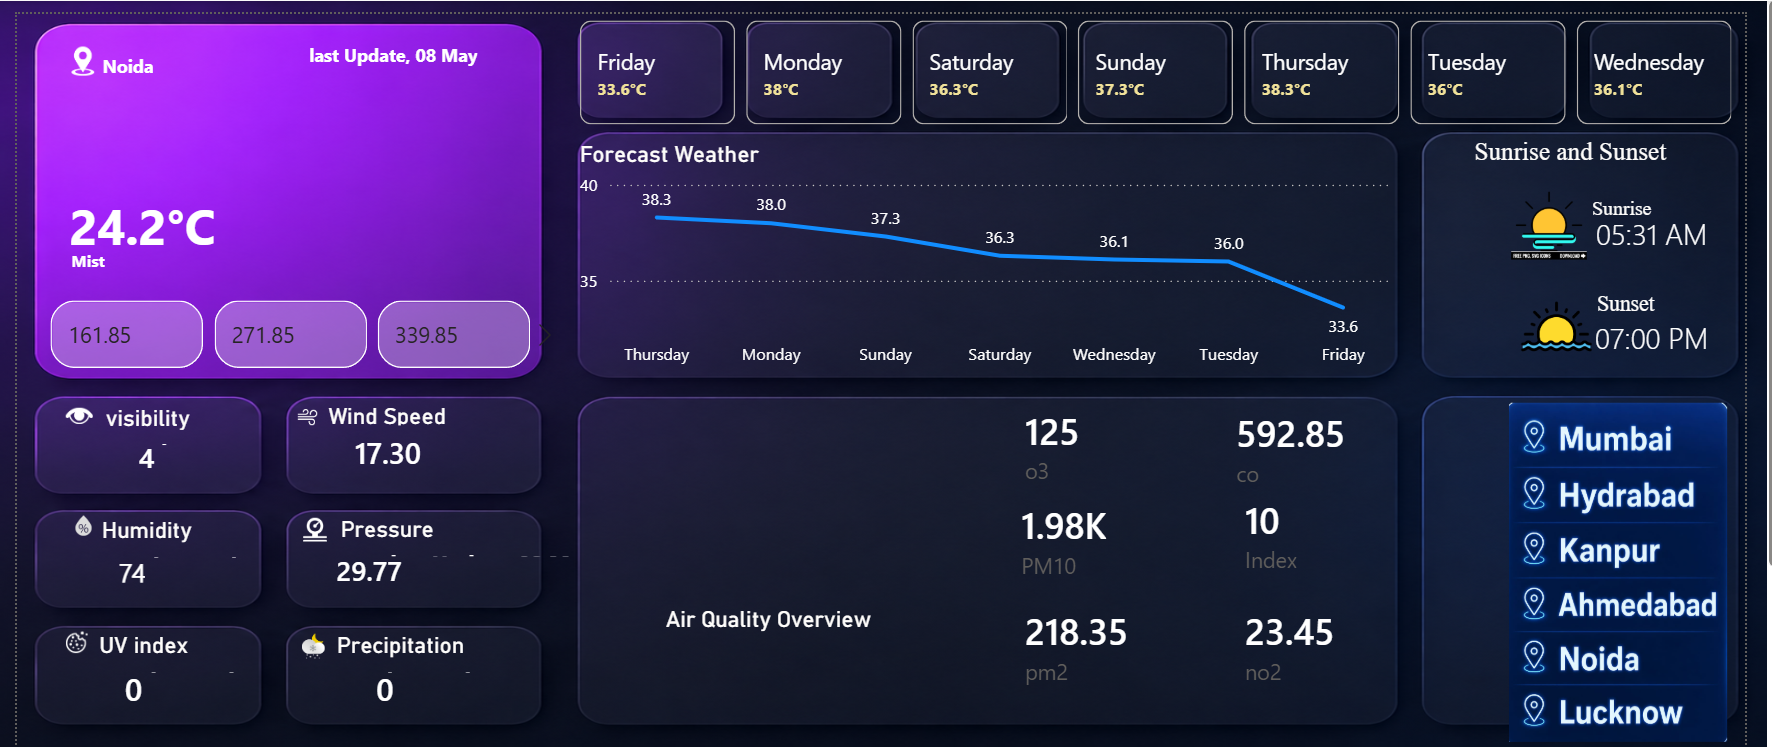

This screenshot's page, from the dashboard's own definition file:
{"tool":"powerbi","page":{"name":"Page 1","canvas":[1280,720],"ordinal":0},"visuals":[{"type":"advancedSlicerVisual","fields":{"Values":["Current.current.air_quality.co"]},"box":[0,207.4,406.5,60.2],"z":0},{"type":"shape","box":[31.5,106.5,243.5,99.1],"z":1000},{"type":"shape","box":[37.9,166.3,187.4,31.6],"z":2000},{"type":"shape","box":[61.1,23.2,103.2,30.5],"z":3000},{"type":"shape","title":"visibility","box":[65.7,288.9,65.7,30.6],"z":4000},{"type":"shape","box":[184.3,14.8,159.3,30.6],"z":5000},{"type":"shape","title":"Wind Speed","box":[230.6,288,90.7,16.7],"z":6000},{"type":"shape","title":"Humidity","box":[63,372.2,188,30.6],"z":7000},{"type":"shape","title":"Pressure","box":[239.8,371.3,187,30.6],"z":8000},{"type":"shape","title":"UV index","box":[61.1,457.4,188,30.6],"z":9000},{"type":"shape","title":"Precipitation","box":[237,457.4,187,30.6],"z":10000},{"type":"image","box":[36.1,291.7,20.4,12],"z":11000},{"type":"image","box":[200,292.6,30.6,12],"z":12000},{"type":"image","box":[41.7,371.3,14.8,14.8],"z":13000},{"type":"image","box":[211.1,373.1,19.4,17.6],"z":14000},{"type":"image","box":[31.5,457.4,25,15.7],"z":15000},{"type":"image","box":[211.1,457.4,16.7,21.3],"z":16000},{"type":"image","box":[38,24.1,22.2,21.3],"z":17000},{"type":"cardVisual","fields":{"Data":["Sum(Current.current.humidity)"]},"box":[38,376.9,95.4,70.4],"z":18000},{"type":"cardVisual","fields":{"Data":["Sum(Current.current.vis_km)"]},"box":[61.1,297.2,117.6,60.2],"z":19000},{"type":"cardVisual","fields":{"Data":["Sum(Current.current.wind_kph)"]},"box":[221.3,289.8,149.1,67.6],"z":20000},{"type":"cardVisual","fields":{"Data":["Sum(Current.current.pressure_in)"]},"box":[207.4,373.1,151.9,76.9],"z":21000},{"type":"cardVisual","fields":{"Data":["Sum(Current.current.uv)"]},"box":[50.9,457.4,96.3,81.5],"z":22000},{"type":"cardVisual","fields":{"Data":["Sum(Current.current.precip_in)"]},"box":[237,457.4,96.3,81.5],"z":23000},{"type":"lineChart","title":"Forecast Weather","fields":{"Category":["Forecast by day.Day_name"],"Y":["Sum(Forecast by day.forecast.forecastday.day.avgtemp_c)"]},"box":[413,93.5,608.3,176.9],"z":24000},{"type":"advancedSlicerVisual","fields":{"Label":["_Measures.for_temp_c"],"Values":["Forecast by day.Day_name"]},"box":[413,0,866.7,87],"z":25000},{"type":"shape","box":[1166.7,142.6,102.8,39.8],"z":26000},{"type":"shape","box":[1166.7,222.2,94.4,31.5],"z":27000},{"type":"shape","title":"Sunrise and Sunset","box":[1079.6,91.7,152.8,29.6],"z":28000},{"type":"shape","title":" Sunset","box":[1170.4,205.6,48.1,14.8],"z":29000},{"type":"shape","title":"Sunrise ","box":[1166.7,136.1,75,13.9],"z":30000},{"type":"image","box":[1102.8,131.5,63.9,50],"z":31000},{"type":"image","box":[1113.9,198.1,52.8,66.7],"z":32000},{"type":"cardVisual","fields":{"Data":["Sum(Current.current.air_quality.gb-defra-index)"]},"box":[880.6,343.5,155.6,84.3],"z":33000},{"type":"cardVisual","fields":{"Data":["Sum(Current.current.air_quality.no2)"]},"box":[880.6,424.1,155.6,88.9],"z":34000},{"type":"cardVisual","fields":{"Data":["Sum(Current.current.air_quality.pm2_5)"]},"box":[717.6,420.4,155.6,95.4],"z":35000},{"type":"cardVisual","fields":{"Data":["Sum(Current.current.air_quality.pm10)"]},"box":[714.8,345.4,155.6,88.9],"z":36000},{"type":"cardVisual","fields":{"Data":["Sum(Current.current.air_quality.o3)"]},"box":[717.6,275.9,149.1,88],"z":37000},{"type":"cardVisual","fields":{"Data":["Sum(Current.current.air_quality.co)"]},"box":[874.1,275,155.6,93.5],"z":38000},{"type":"shape","title":"Air Quality Overview","box":[480.6,438,159.3,23.1],"z":39000},{"type":"image","box":[1102.8,288,166.7,250.9],"z":40000}]}

Visuals, with their boxes on the page's 1280x720 design canvas (x1, y1, x2, y2). These are canvas units, not pixel positions in the 1772x747 screenshot, which may show the page scaled, cropped or inside an application window:
advancedSlicerVisual - Current.current.air_quality.co: [0,207,406,268]
shape: [32,106,275,206]
shape: [38,166,225,198]
shape: [61,23,164,54]
"visibility" shape: [66,289,131,320]
shape: [184,15,344,45]
"Wind Speed" shape: [231,288,321,305]
"Humidity" shape: [63,372,251,403]
"Pressure" shape: [240,371,427,402]
"UV index" shape: [61,457,249,488]
"Precipitation" shape: [237,457,424,488]
image: [36,292,56,304]
image: [200,293,231,305]
image: [42,371,56,386]
image: [211,373,230,391]
image: [32,457,56,473]
image: [211,457,228,479]
image: [38,24,60,45]
cardVisual - Sum(Current.current.humidity): [38,377,133,447]
cardVisual - Sum(Current.current.vis_km): [61,297,179,357]
cardVisual - Sum(Current.current.wind_kph): [221,290,370,357]
cardVisual - Sum(Current.current.pressure_in): [207,373,359,450]
cardVisual - Sum(Current.current.uv): [51,457,147,539]
cardVisual - Sum(Current.current.precip_in): [237,457,333,539]
"Forecast Weather" lineChart: [413,94,1021,270]
advancedSlicerVisual - _Measures.for_temp_c x Forecast by day.Day_name: [413,0,1280,87]
shape: [1167,143,1270,182]
shape: [1167,222,1261,254]
"Sunrise and Sunset" shape: [1080,92,1232,121]
" Sunset" shape: [1170,206,1218,220]
"Sunrise " shape: [1167,136,1242,150]
image: [1103,132,1167,182]
image: [1114,198,1167,265]
cardVisual - Sum(Current.current.air_quality.gb-defra-index): [881,344,1036,428]
cardVisual - Sum(Current.current.air_quality.no2): [881,424,1036,513]
cardVisual - Sum(Current.current.air_quality.pm2_5): [718,420,873,516]
cardVisual - Sum(Current.current.air_quality.pm10): [715,345,870,434]
cardVisual - Sum(Current.current.air_quality.o3): [718,276,867,364]
cardVisual - Sum(Current.current.air_quality.co): [874,275,1030,368]
"Air Quality Overview" shape: [481,438,640,461]
image: [1103,288,1270,539]
